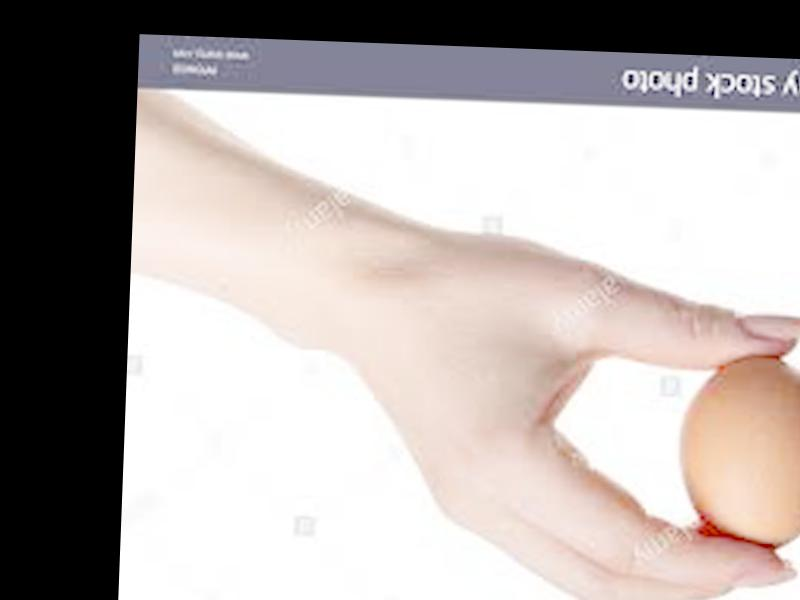Eggs: (672, 357, 800, 551)
